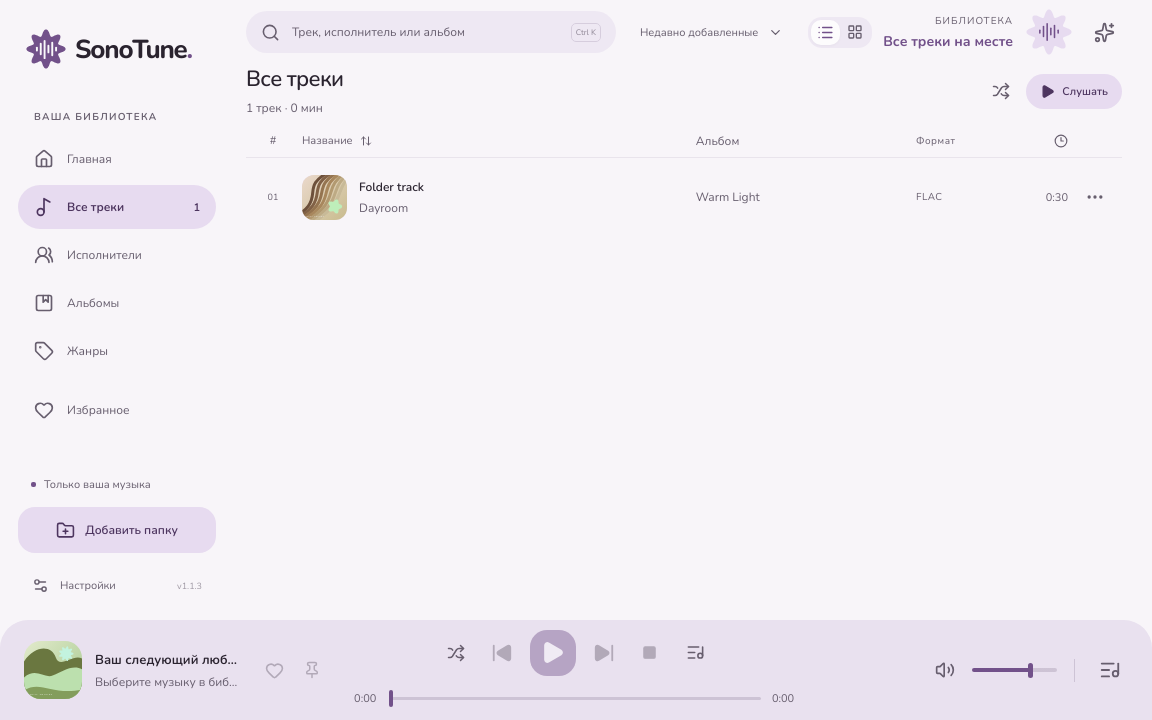
Scenario: shows the track folder through right-click and removes the library status footer
Right-click the row named "Действия: Folder track": x=324, y=197 [246, 163, 1122, 231]
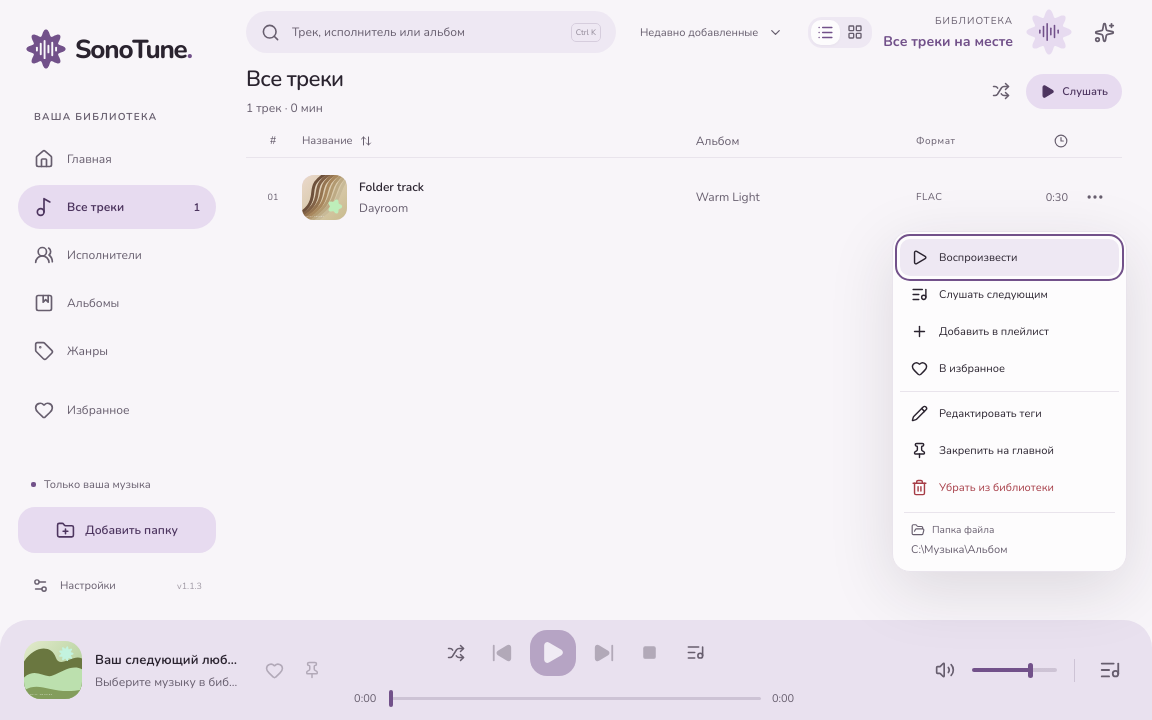
Now the text "Папка файла" is shown, box [911, 523, 994, 537]
Now the text "C:\\Музыка\\Альбом" is shown, box [911, 542, 1008, 557]
Now the menu item "Воспроизвести" is shown, box [900, 239, 1119, 276]
